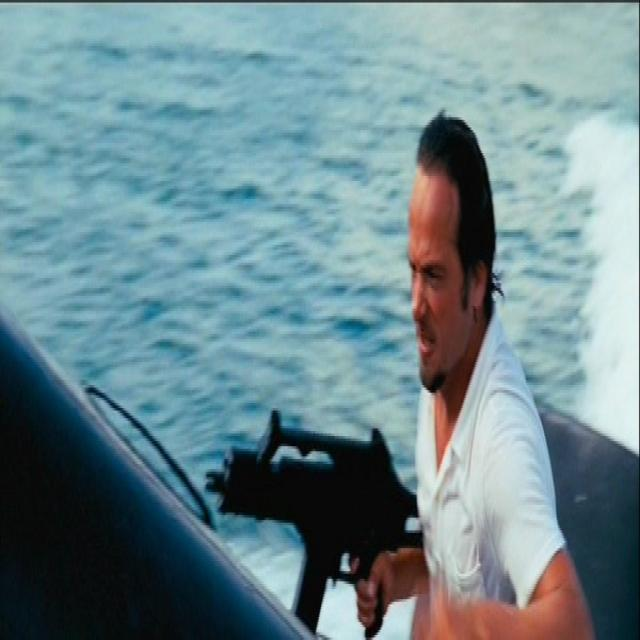rifle: (202, 399, 425, 640)
